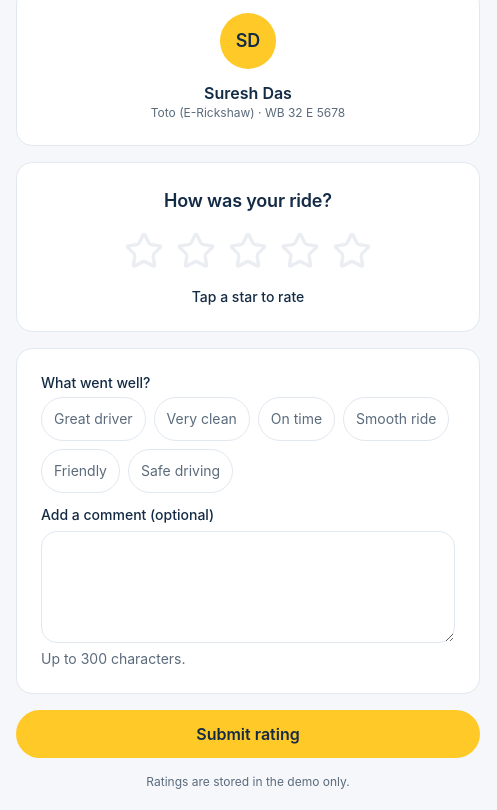
Test: ride rating › asks for a star rating
This screenshot has width=497, height=810.
(page scrolled)
Expected: the text "Ratings are stored in the demo only." is shown, 146,774 -> 350,789
Click the button "Submit rating" at [248, 734], box 16,710 -> 480,758
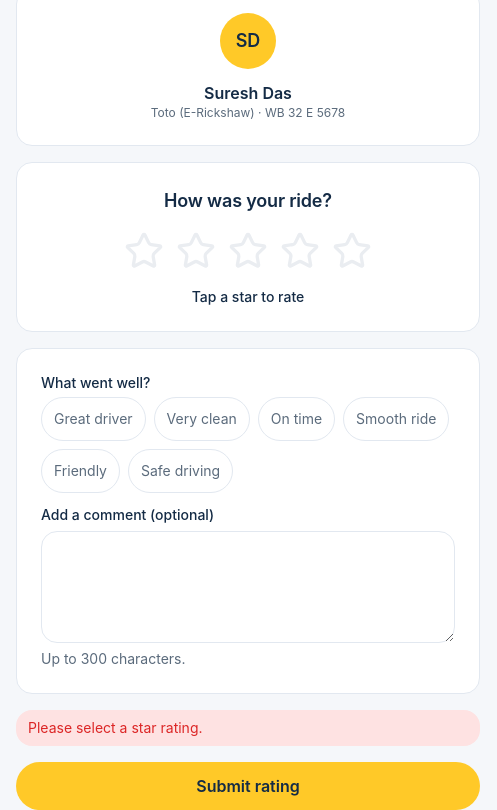
Expected: the message reads "Please select a star rating.", 28,719 -> 202,736
